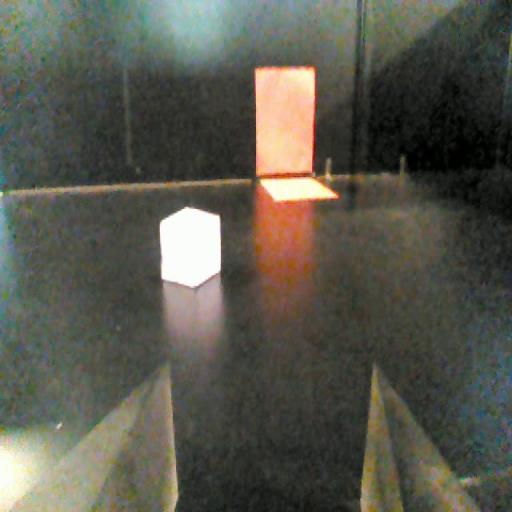cube: (155, 200, 223, 289)
